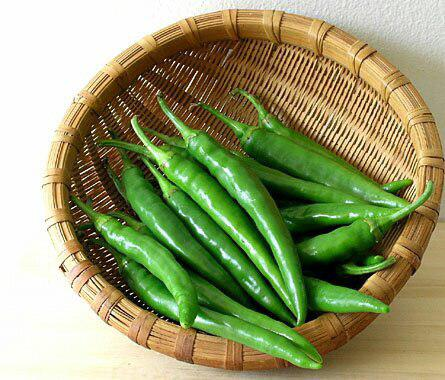lada hijau: (186, 131, 309, 324), (165, 179, 297, 323), (112, 165, 242, 296), (240, 121, 409, 214), (94, 217, 198, 325), (295, 210, 397, 271)
